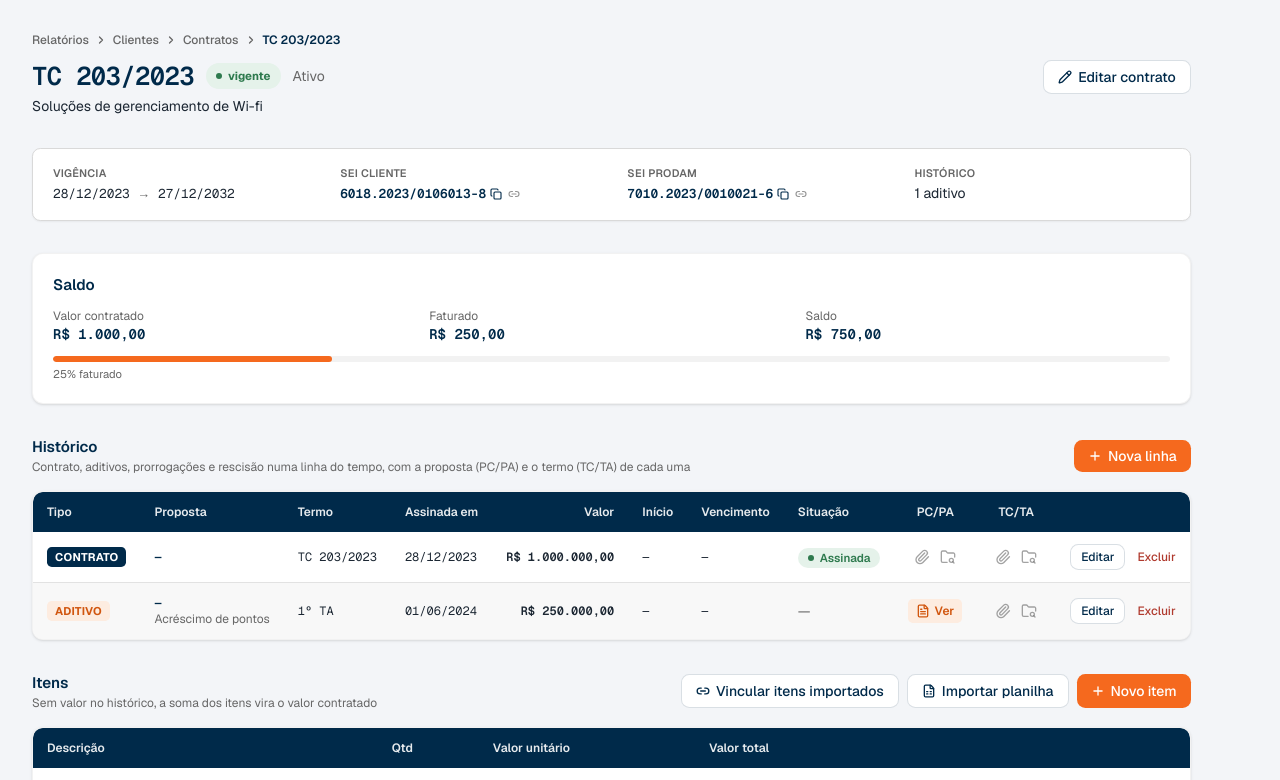
it: ContratoDetalhePage › mostra o erro da API ao salvar histórico
This screenshot has width=1280, height=780.
Click the button "Nova linha".
click(1132, 456)  # box [1074,440,1191,472]
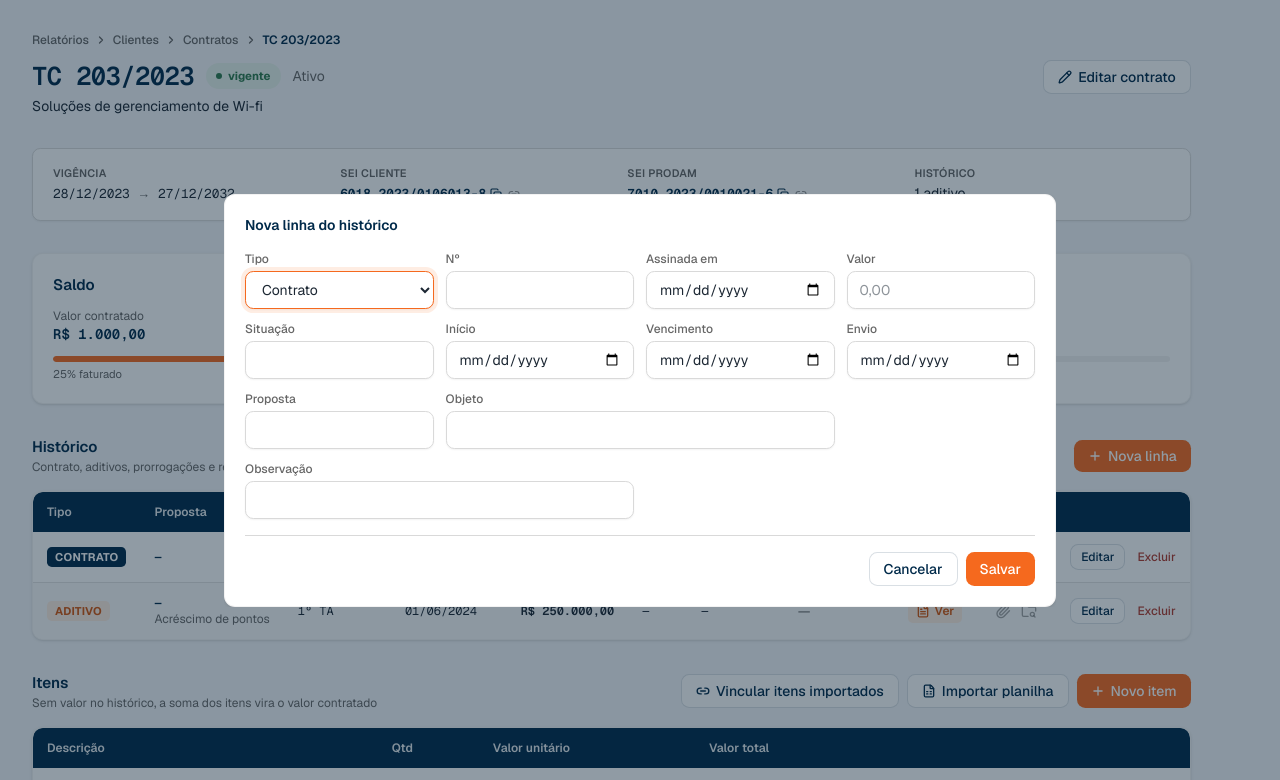
Click the button "Salvar".
click(1000, 568)  # box [966,552,1035,586]
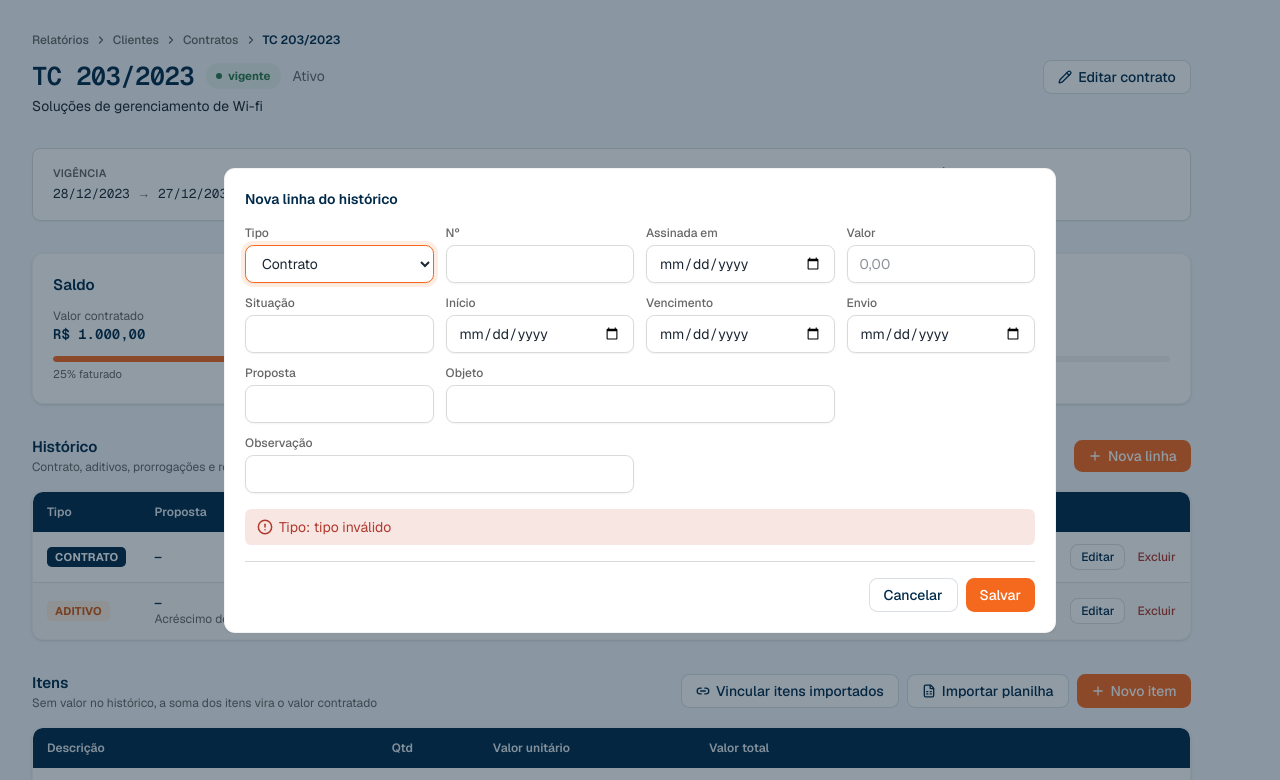
Check: the text "Tipo: tipo inválido" is shown, box [245,508,1035,544]
